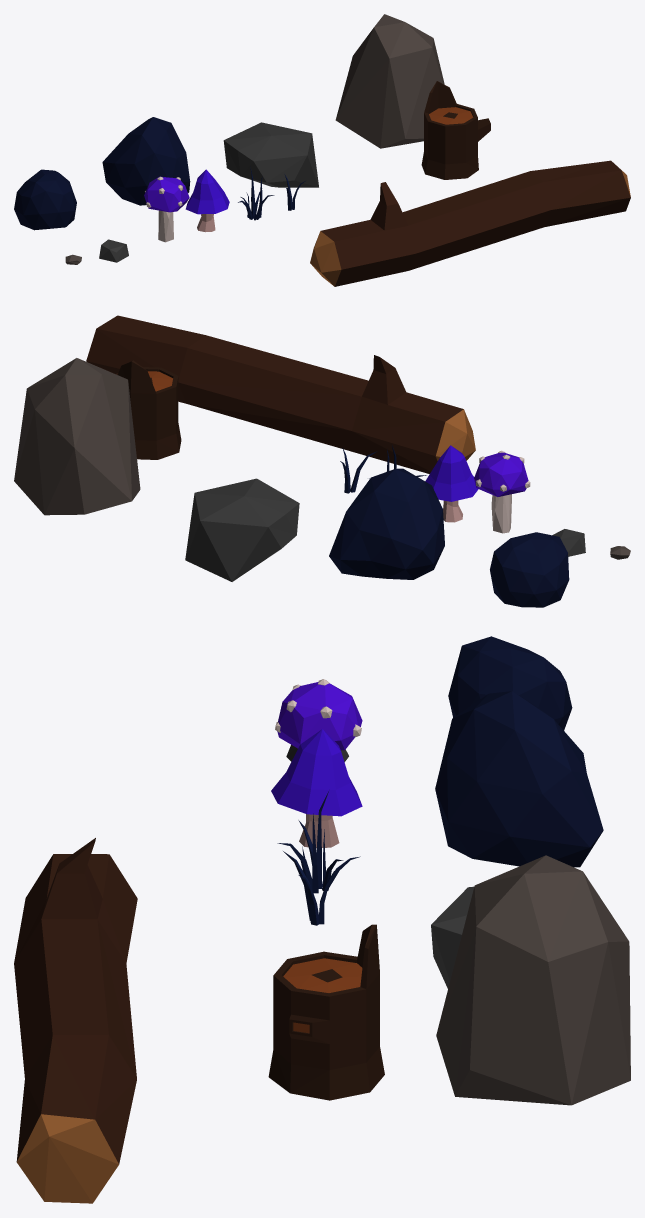
The model's file is nature stuff.obj.
The picture shows the model from 3 angles, top to bottom: view 1: azimuth 30°, elevation 25°; view 2: azimuth 150°, elevation 25°; view 3: azimuth 270°, elevation 25°; orthographic projection. The views are drawn at different scales.
Parts seen in each view (by area): view 1: Branch, Rock4, Rock1, Bush1, Stump1, Bush2, Mushroom1, Mushroom2, Rock3, Grass1; view 2: Branch, Rock4, Bush1, Rock1, Bush2, Stump1, Mushroom1, Mushroom2, Rock3, Grass2; view 3: Rock4, Branch, Bush1, Stump1, Bush2, Mushroom2, Mushroom1, Rock1, Grass1, Grass2.
Part boxes in pixels (<box>): Branch: <box>310,160,630,286</box>; Rock4: <box>335,14,444,148</box>; Rock1: <box>223,122,318,187</box>; Bush1: <box>102,117,190,205</box>; Stump1: <box>421,81,490,179</box>; Bush2: <box>14,169,76,230</box>; Mushroom1: <box>144,176,189,242</box>; Mushroom2: <box>185,169,229,232</box>; Rock3: <box>99,239,128,262</box>; Grass1: <box>238,166,274,220</box>; Branch: <box>86,315,475,473</box>; Rock4: <box>14,358,140,515</box>; Bush1: <box>329,468,444,579</box>; Rock1: <box>185,478,299,581</box>; Bush2: <box>490,532,569,607</box>; Stump1: <box>116,360,181,459</box>; Mushroom1: <box>474,450,530,533</box>; Mushroom2: <box>425,445,478,522</box>; Rock3: <box>552,529,585,556</box>; Grass2: <box>340,448,377,493</box>; Rock4: <box>436,855,630,1105</box>; Branch: <box>14,838,137,1203</box>; Bush1: <box>435,691,603,867</box>; Stump1: <box>268,924,384,1100</box>; Bush2: <box>448,636,572,730</box>; Mushroom2: <box>271,729,362,848</box>; Mushroom1: <box>275,679,362,750</box>; Rock1: <box>431,886,474,988</box>; Grass1: <box>277,791,360,893</box>; Grass2: <box>283,851,344,925</box>.
Bounding box in the file's own units: 19.13 × 4.86 × 10.7.
